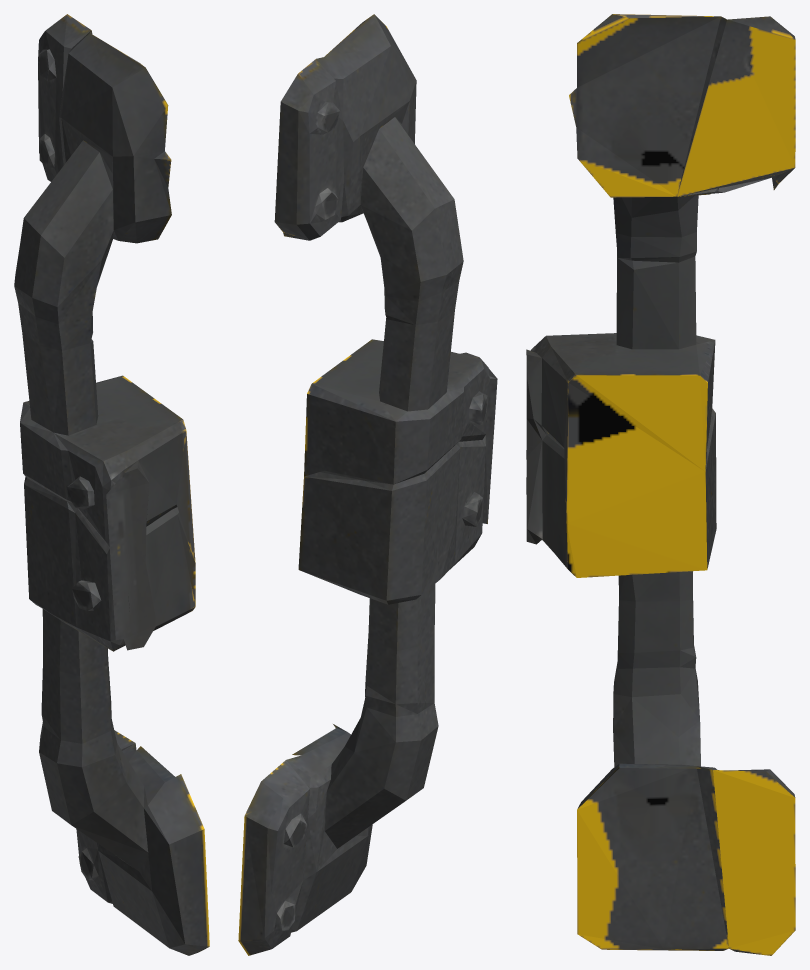
The model's file is SM_ShieldDebris_Grip.fbx.
The picture shows the model from 3 angles, left to right: view 1: azimuth 30°, elevation 25°; view 2: azimuth 150°, elevation 25°; view 3: azimuth 270°, elevation 25°; orthographic projection. The views are drawn at different scales.
Parts seen in each view (by area): view 1: SM_ShieldDebris_Grip; view 2: SM_ShieldDebris_Grip; view 3: SM_ShieldDebris_Grip.
Part boxes in pixels (box(x1,y1,x2,y2)): SM_ShieldDebris_Grip: box(14, 14, 209, 955); SM_ShieldDebris_Grip: box(238, 14, 497, 955); SM_ShieldDebris_Grip: box(526, 14, 795, 955).
Bounding box in the file's own units: 10.76 × 61.51 × 16.35.
1 material, 1 textured.
